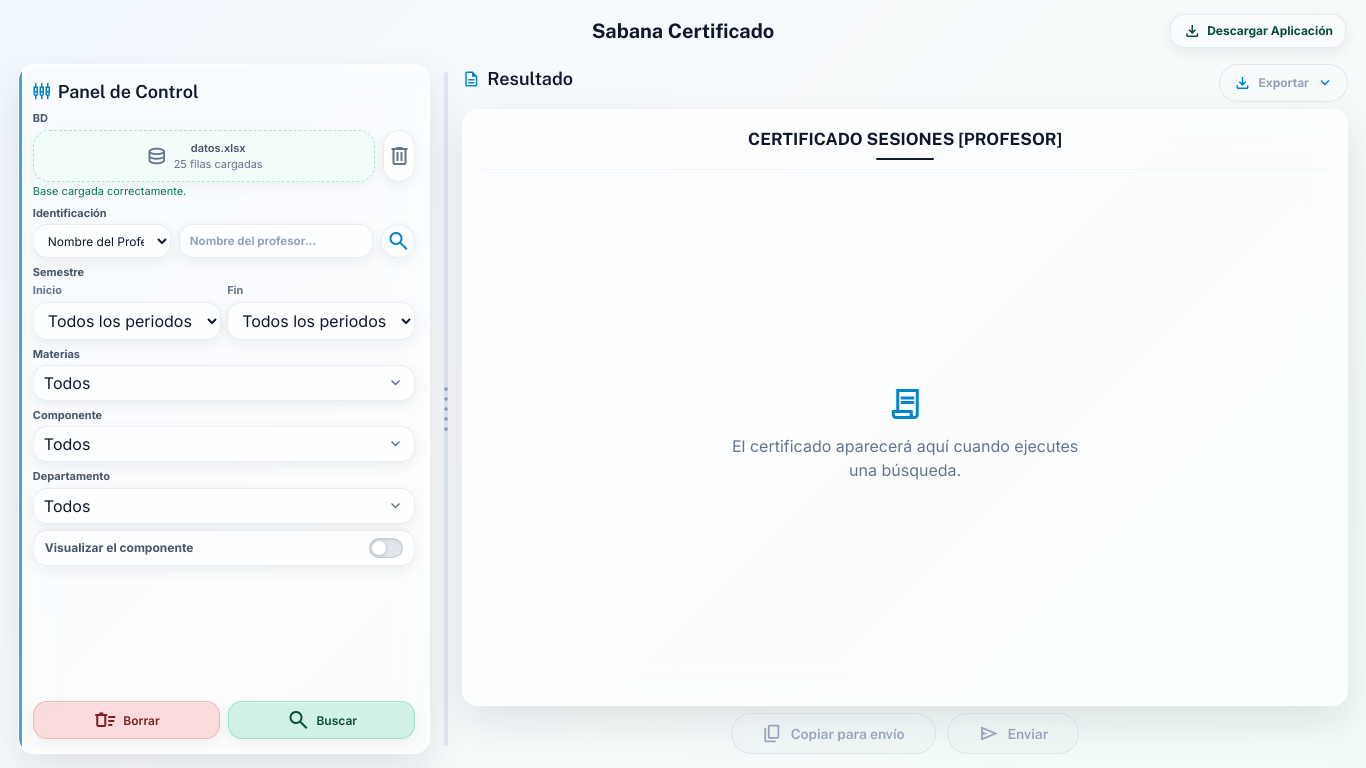
it: Sabana Certificado frontend › bottom Borrar clears parameters without deleting the uploaded database
Type "Lina Martinez" into the field with placeholder "Nombre del profesor..." at (276, 241), box [179,224,374,258]
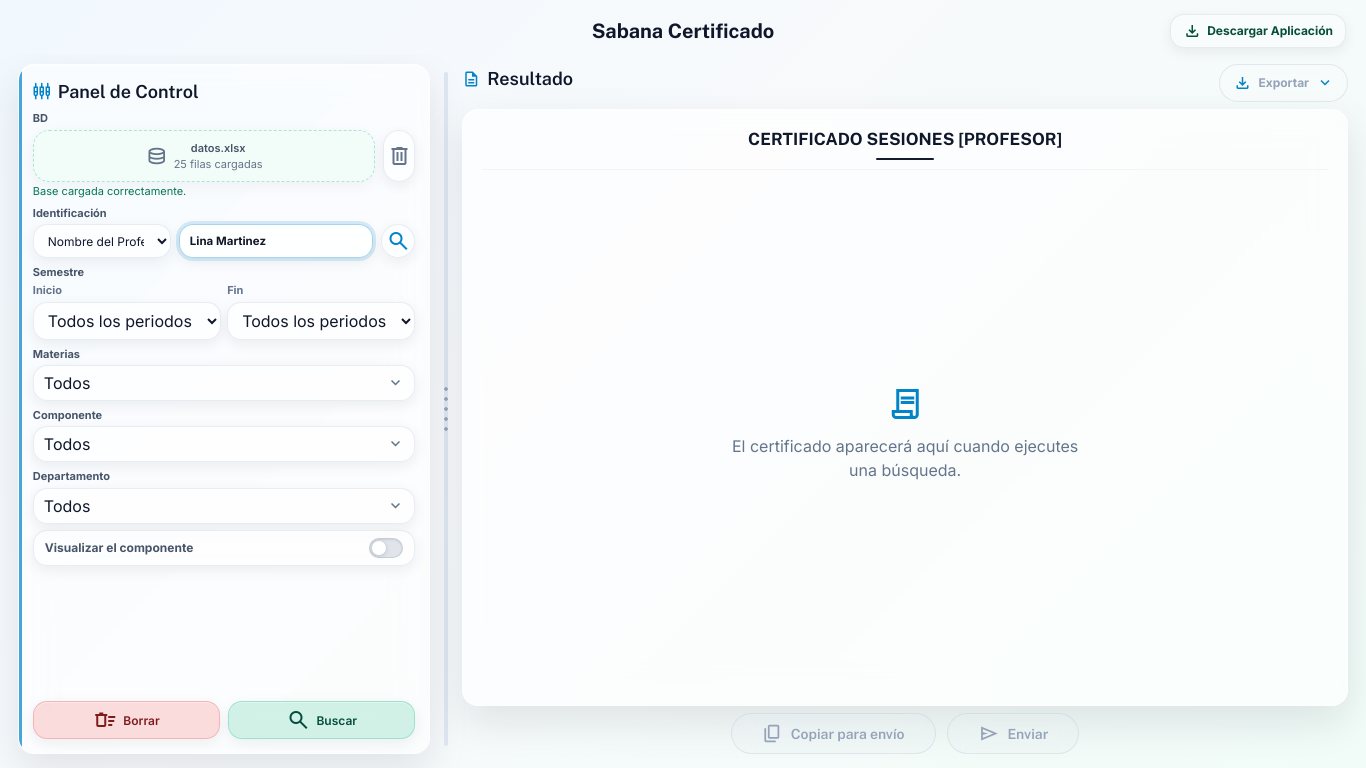
Select "2023-I" in the dropdown labelled "Inicio" at (127, 321), box [33,302,221,340]
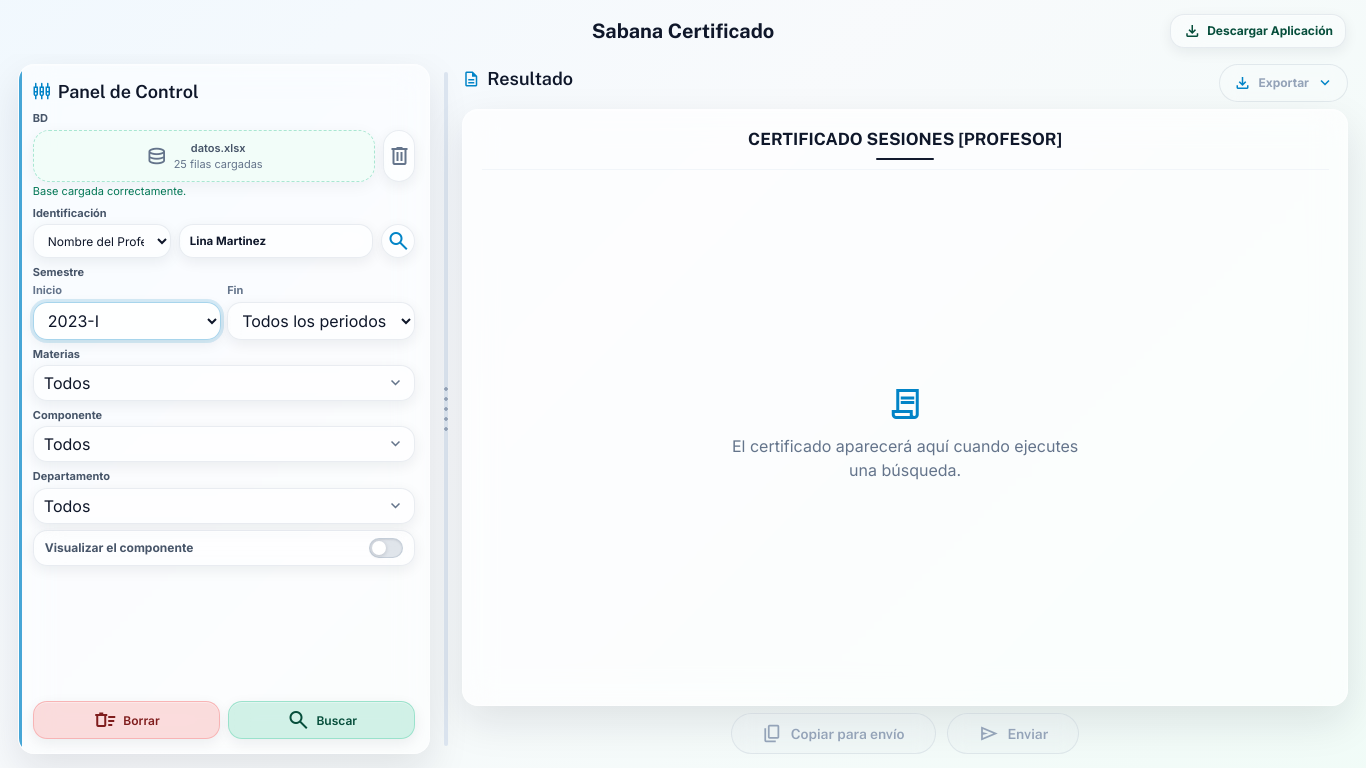
Click the button "Borrar" at (127, 720), box [33,701,220,739]
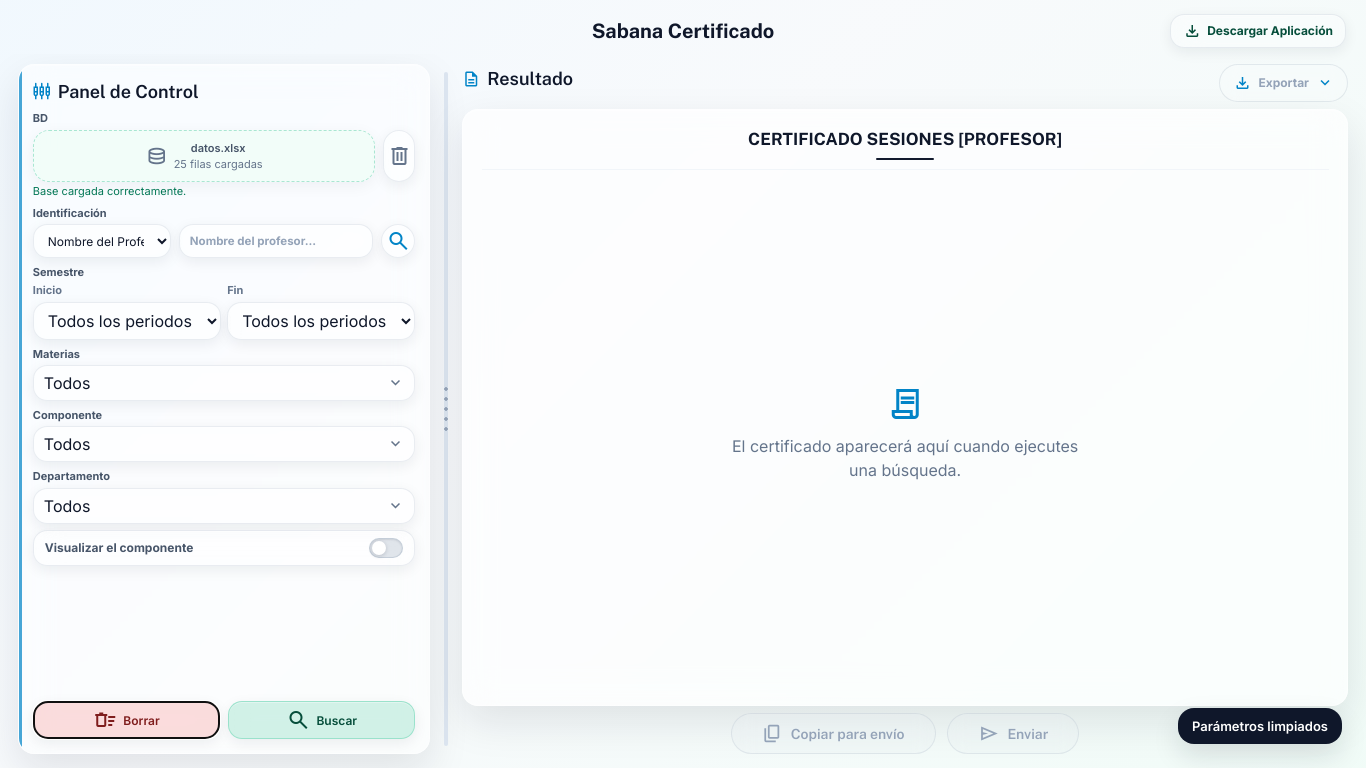
expect the text "datos.xlsx" is shown: met, box [191,141,245,155]
expect the field with placeholder "Nombre del profesor..." is empty: met, box [179,224,374,258]
